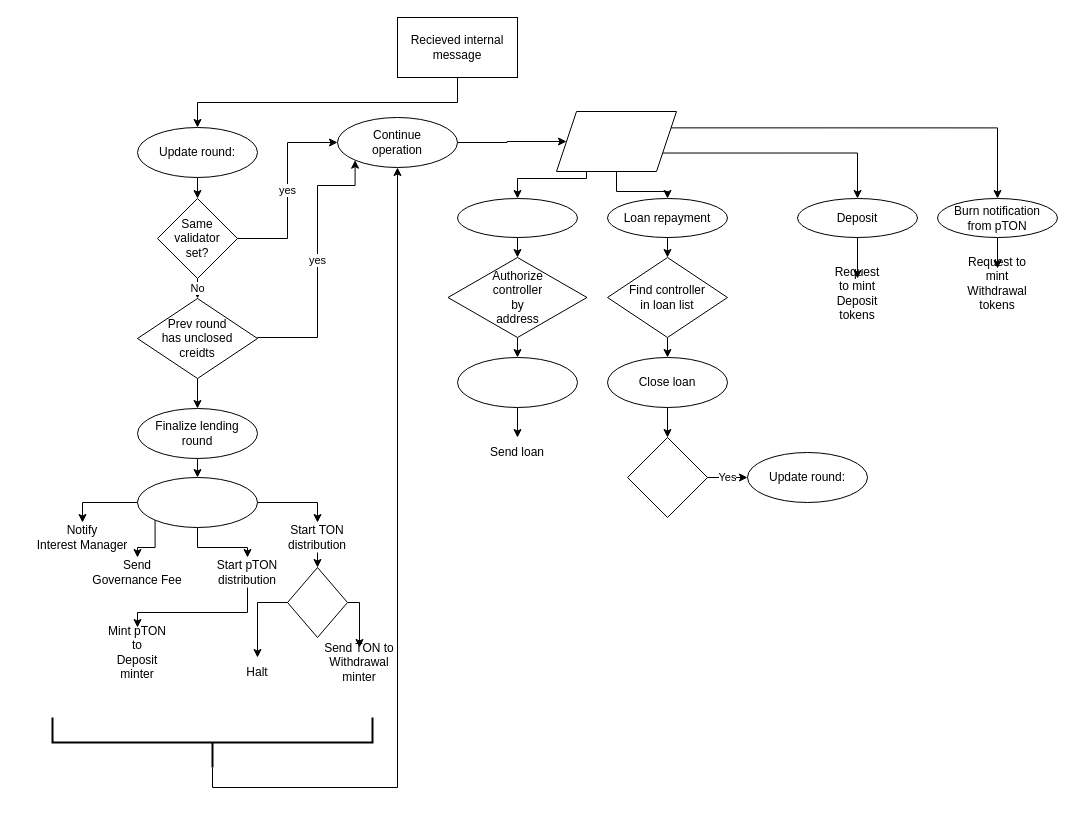
The diagram is 1075 pixels wide and 813 high, and some of its shapes have lost their labels. Here are the shapes that lost their labels. From the top down, the box of each, then its label:
(556, 110, 676, 172): Operation selector
(456, 198, 578, 238): Request loan
(456, 356, 578, 408): Add loan to current round list
(626, 436, 708, 518): Last credit
(136, 476, 258, 528): Calc profit update pTON/TON
(286, 566, 348, 638): Enough TON?
